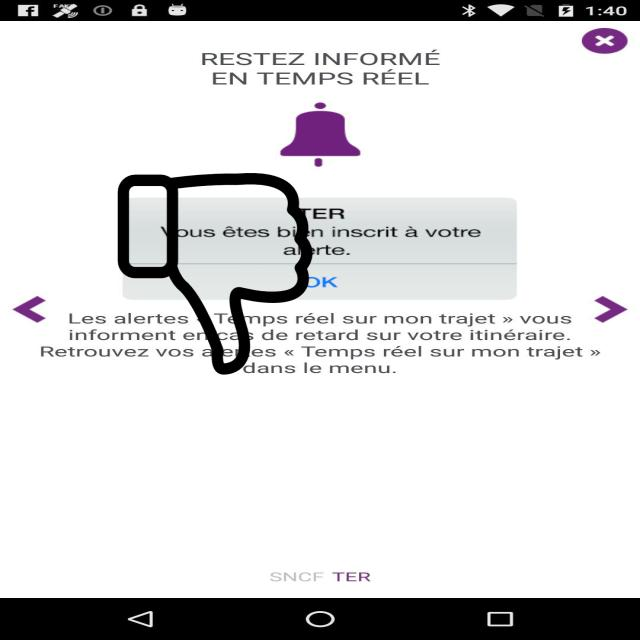obstruction: (115, 173, 315, 375)
